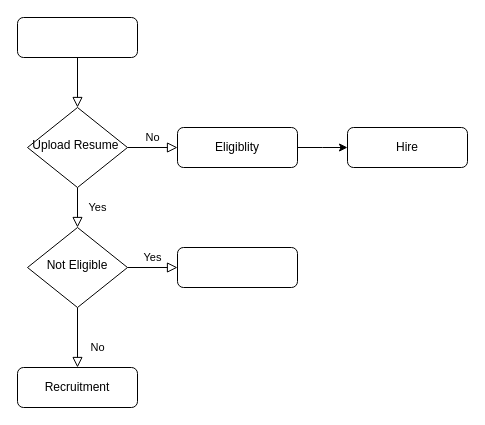
Some shapes in this 485 by 425 pixel diagram are drawn without their labels. Each missing label, with the centre of its shape:
"Reject" goes at point 237,267.
"Sign Up" goes at point 77,37.
